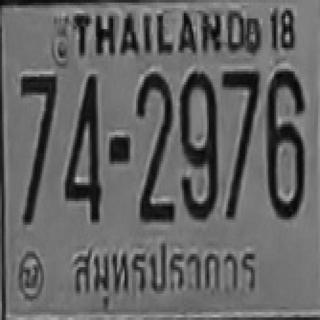N02: (137, 71, 172, 206)
N04: (63, 73, 100, 221)
N06: (264, 69, 303, 217)
N07: (220, 69, 259, 214), (19, 74, 56, 217), (220, 69, 259, 190), (20, 74, 56, 188), (20, 74, 56, 172), (220, 69, 259, 159), (19, 74, 56, 161)
N09: (178, 70, 216, 218)
P57: (65, 239, 261, 305)
